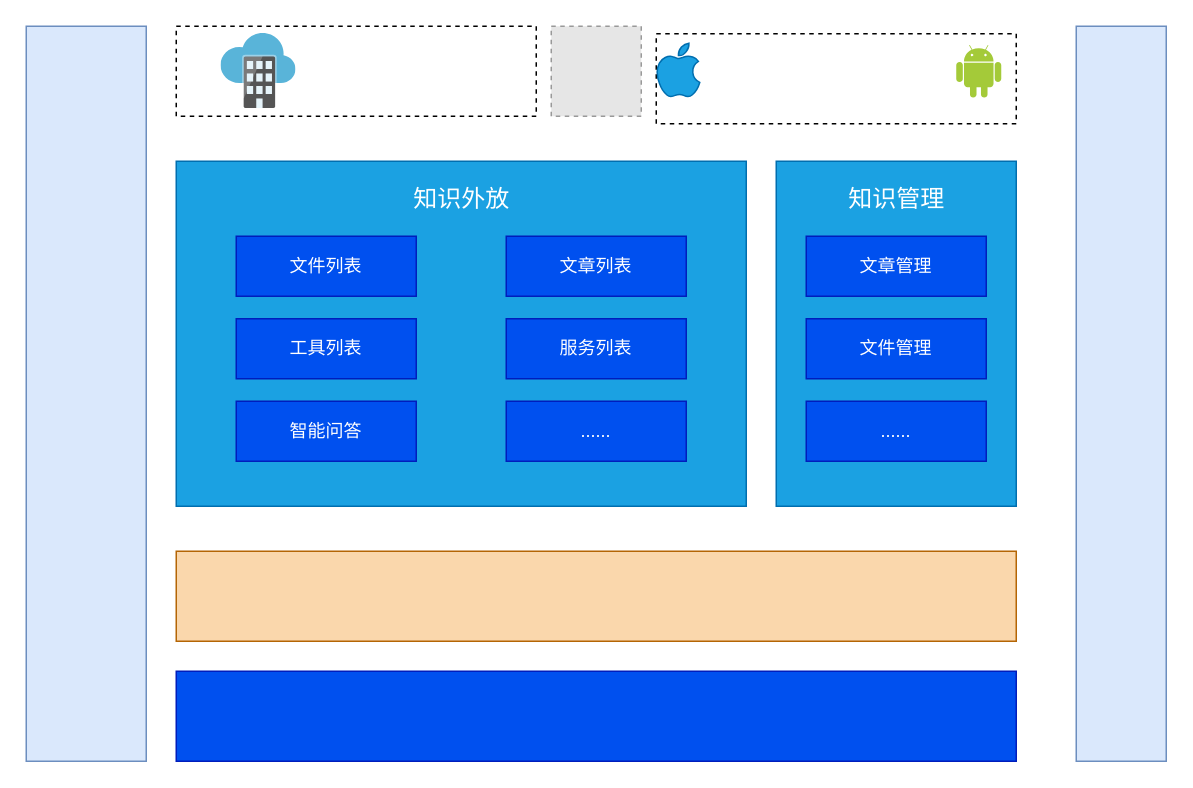
Image size: 1193x788. Some labels were removed from this diagram. Grey dashed boxes stand in for pictures. Here are the shapes that lost their labels. From the top down, the box of each, then its label:
(175, 25, 536, 116): SAAS 服务
(655, 32, 1016, 124): PWA（IOS）+PWA（Android）
(25, 25, 146, 761): 核心 技術 ——— Spring Boot Mysql Redis --- 人工 智能 智慧 硬件 大 數 據
(1075, 25, 1166, 761): 系統 支持 ——— 系統 安全 數據 加密 系統 日誌 服務 運維
